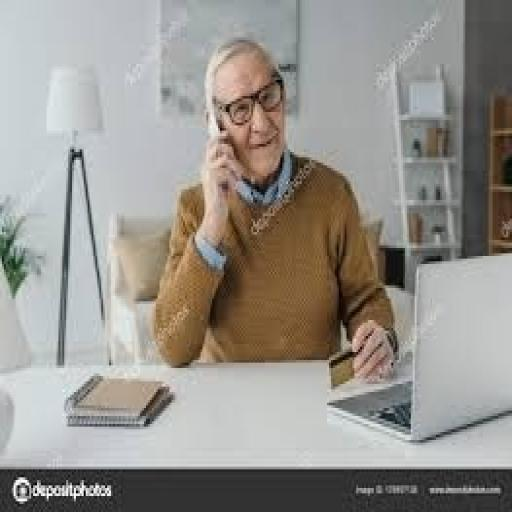calling: (148, 34, 401, 386)
